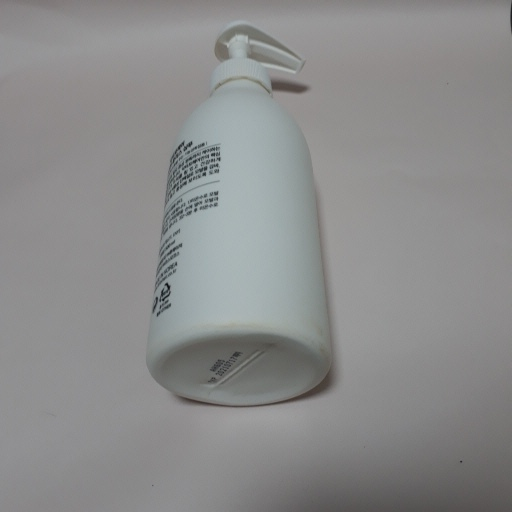Plastic_3: (149, 18, 331, 409)
